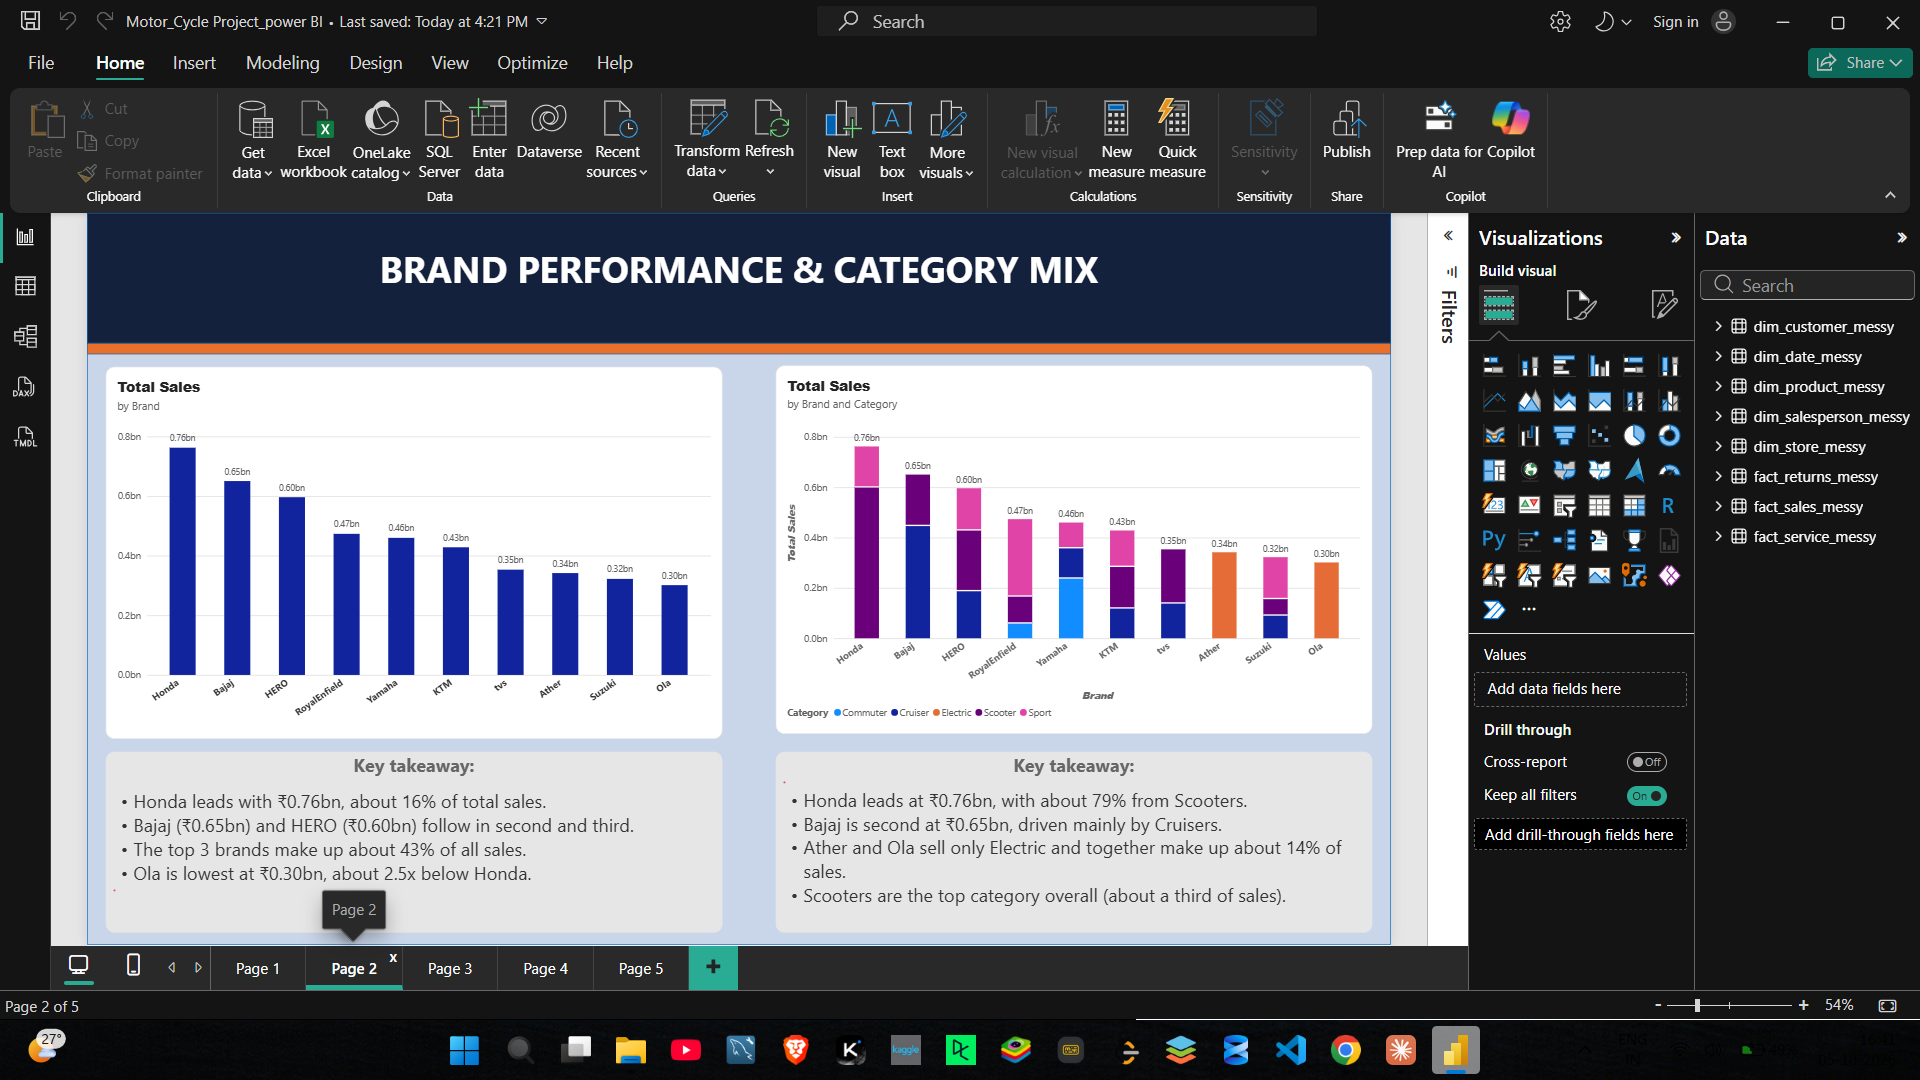

This screenshot's page, from the dashboard's own definition file:
{"tool":"powerbi","page":{"name":"Page 2","canvas":[1920,1080],"ordinal":1},"visuals":[{"type":"shape","box":[0,192,1920,886],"z":0},{"type":"clusteredColumnChart","fields":{"Category":["dim_product_messy.Brand"],"Y":["fact_sales_messy.Total Sales"]},"box":[28,226,908,548],"z":1000},{"type":"textbox","box":[28,794,908,266],"z":3000},{"type":"columnChart","fields":{"Category":["dim_product_messy.Brand"],"Series":["dim_product_messy.Category"],"Y":["fact_sales_messy.Total Sales"]},"box":[1014,224,878,542],"z":4000},{"type":"textbox","box":[1014,794,878,266],"z":5000},{"type":"shape","box":[0,0,1920,208],"z":6000},{"type":"shape","box":[0,0,1920,192],"z":7000},{"type":"textbox","box":[0,46,1920,146],"z":7500}]}

Visuals, with their boxes on the page's 1920x1080 design canvas (x1, y1, x2, y2). These are canvas units, not pixel positions in the 1920x1080 screenshot, which may show the page scaled, cropped or inside an application window:
shape: [0, 192, 1920, 1078]
clusteredColumnChart - dim_product_messy.Brand x fact_sales_messy.Total Sales: [28, 226, 936, 774]
textbox: [28, 794, 936, 1060]
columnChart - dim_product_messy.Brand x dim_product_messy.Category: [1014, 224, 1892, 766]
textbox: [1014, 794, 1892, 1060]
shape: [0, 0, 1920, 208]
shape: [0, 0, 1920, 192]
textbox: [0, 46, 1920, 192]
